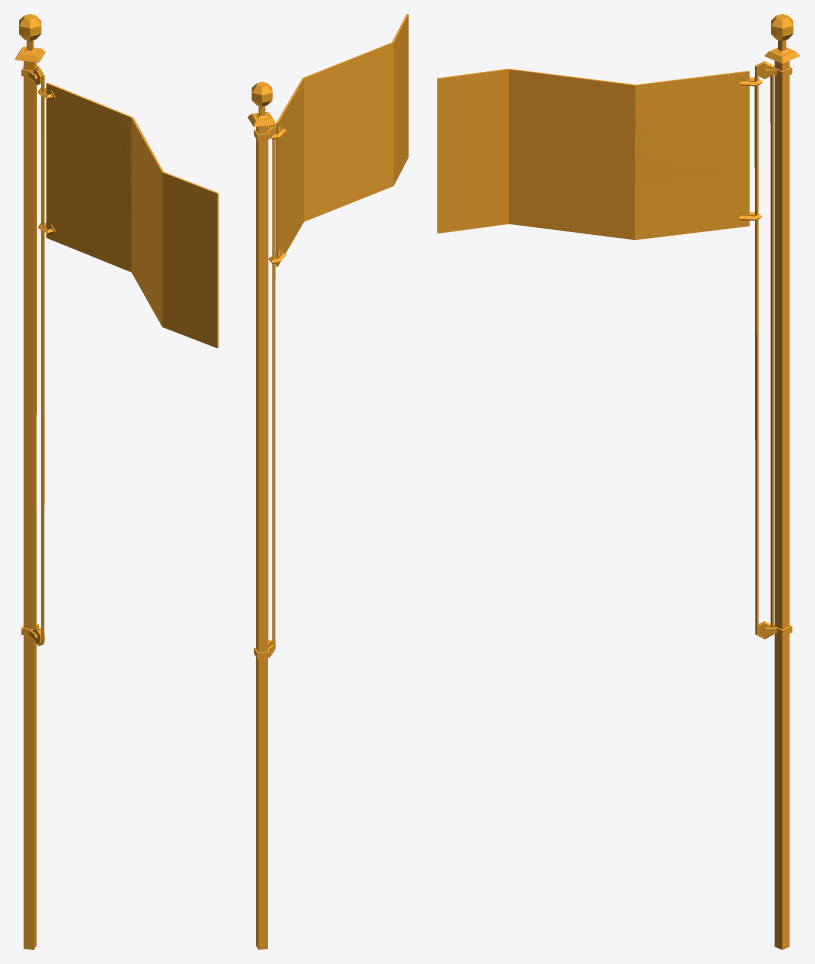
File: SM_Flag_Ground_American_Wave.fbx
3 views of the same model, side by side, from view 1: azimuth 30°, elevation 25°; view 2: azimuth 150°, elevation 25°; view 3: azimuth 270°, elevation 25° (orthographic). The views are drawn at different scales.
Visible parts, largest first — view 1: flag-ground-american-wave; view 2: flag-ground-american-wave; view 3: flag-ground-american-wave.
Part boxes in pixels (x1,y1,x2,y2): flag-ground-american-wave: (14,14,218,949); flag-ground-american-wave: (247,14,408,949); flag-ground-american-wave: (437,14,799,949).
Size of the model in its own units: 0.4847 by 9.42 by 3.33.
